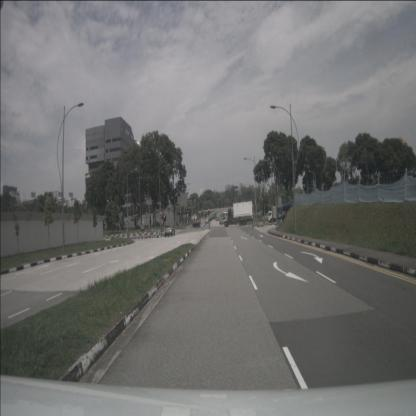vehicle-bus-rigid: (276, 203, 298, 224)
vehicle-car: (165, 225, 175, 237), (193, 218, 200, 228)
vehicle-truck: (219, 201, 254, 227), (267, 206, 286, 223)
